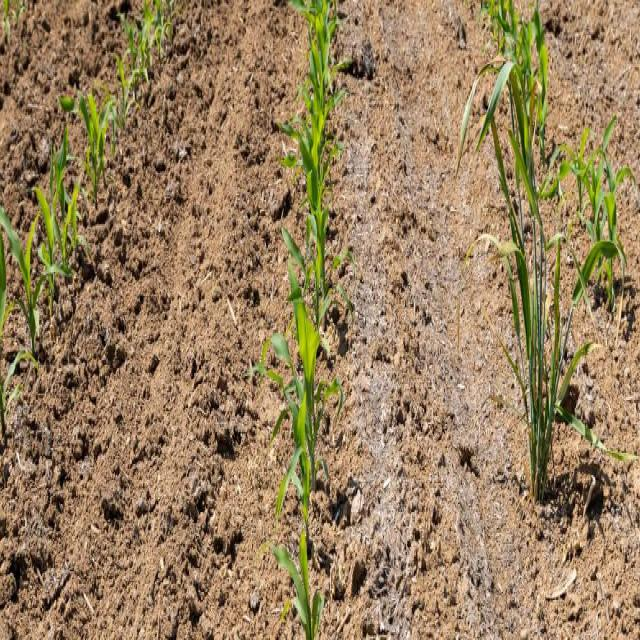row: (327, 0, 640, 640), (0, 2, 307, 639), (523, 0, 640, 253)
